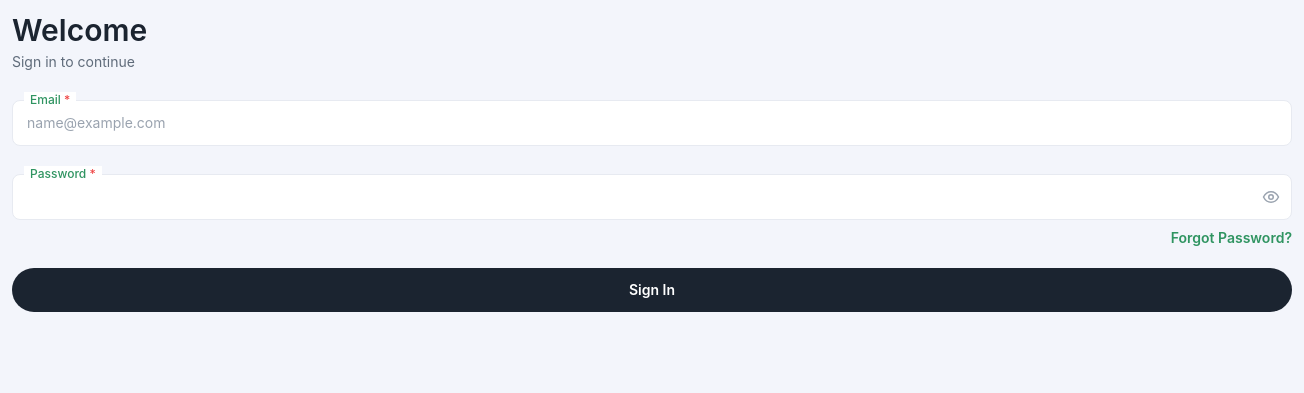
LoginForm (spec 2.1.1) › surfaces the server message for bad credentials (spec 2.1.1.4)
The width and height of the screenshot is (1304, 393).
Step 1. Type "john.smith@example.com" into the field labelled "Email *" → point(652, 123), box [12,100,1292,146]
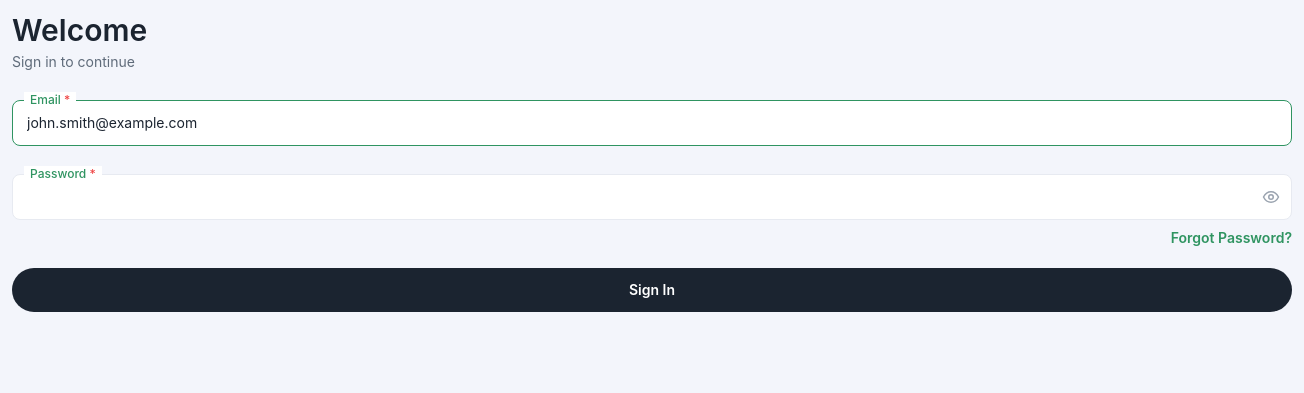
Step 2. Type "wrong-password" into the password field labelled "Password *" → point(652, 197), box [12,174,1292,220]
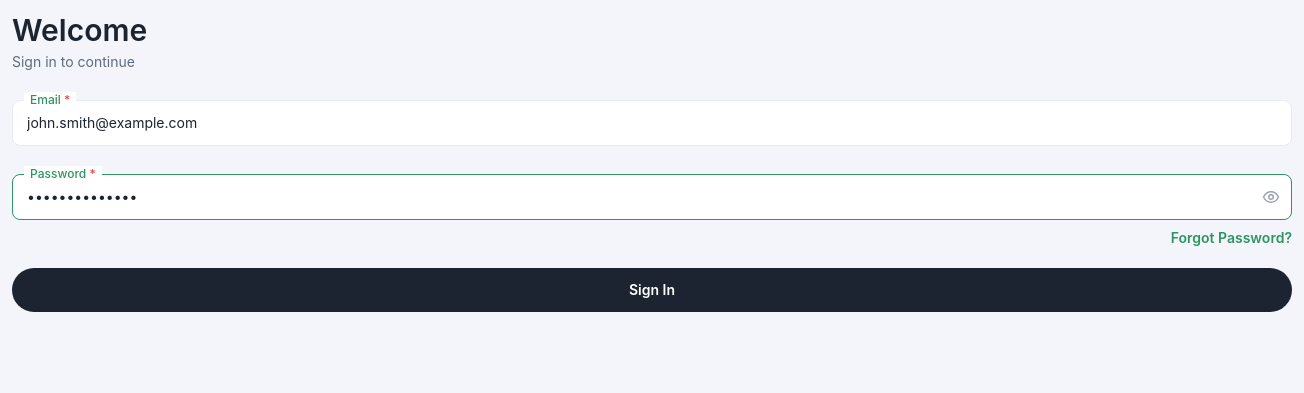
Step 3. Click the button "Sign In" → point(652, 290), box [12,268,1292,312]
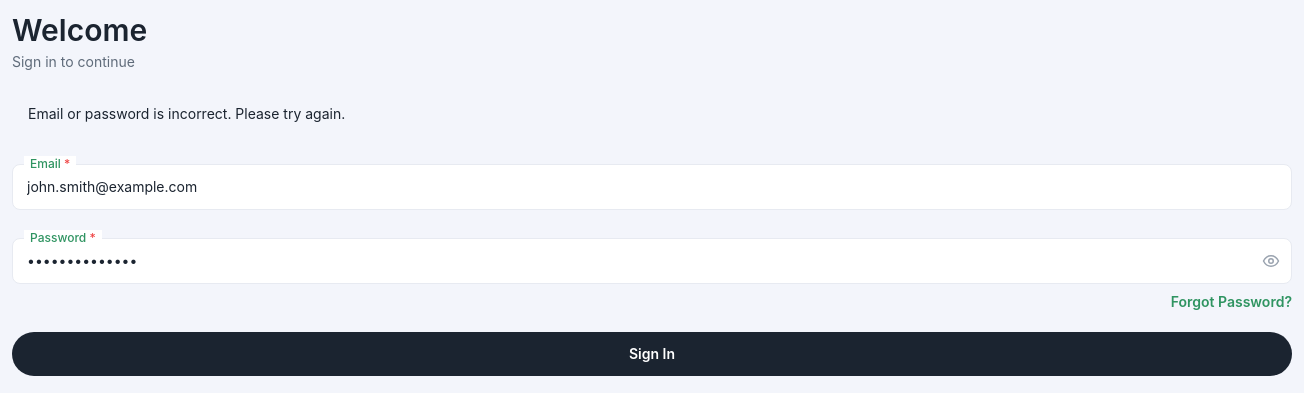
Expected: the text "Email or password is incorrect. Please try again." is shown, [28,105,345,122]
